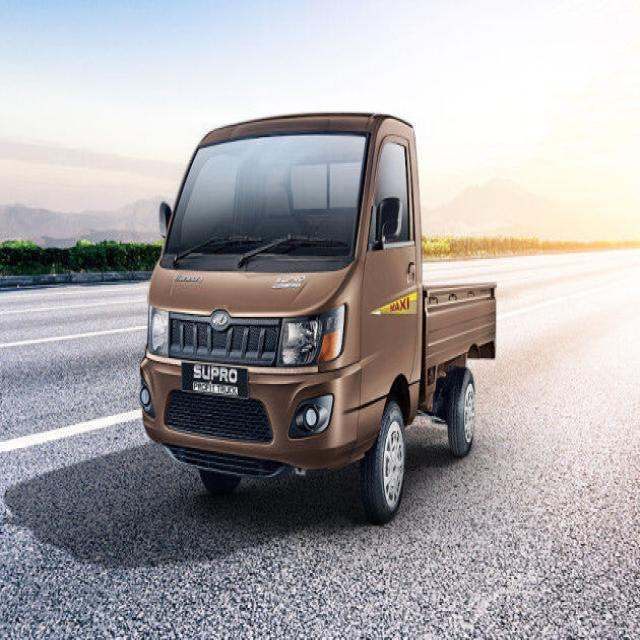truck: (141, 114, 496, 521)
